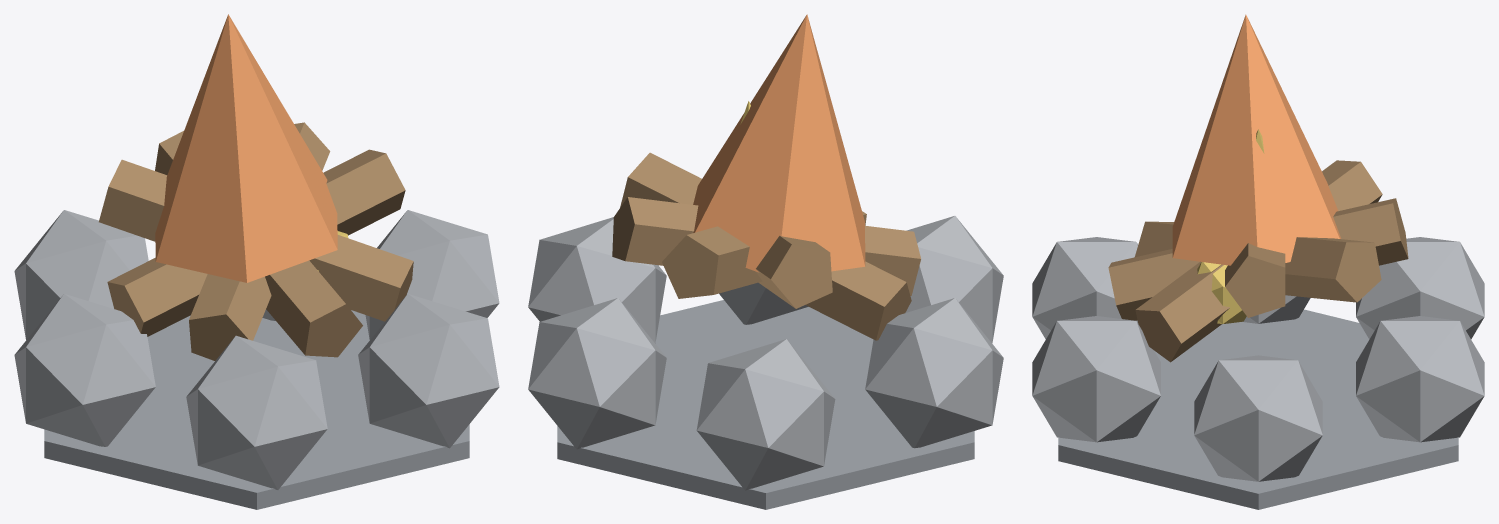
Rendered from animprop_campfire_05.glb.
The picture shows the model from 3 angles, left to right: view 1: azimuth 30°, elevation 25°; view 2: azimuth 150°, elevation 25°; view 3: azimuth 270°, elevation 25°; orthographic projection. The views are drawn at different scales.
Parts seen in each view (by area): view 1: animprop; view 2: animprop; view 3: animprop.
Part boxes in pixels (x1=…): animprop: x1=14, y1=14, x2=499, y2=509; animprop: x1=528, y1=14, x2=1003, y2=509; animprop: x1=1032, y1=14, x2=1484, y2=509.
Bounding box in the file's own units: 1.13 × 0.9476 × 1.02.
